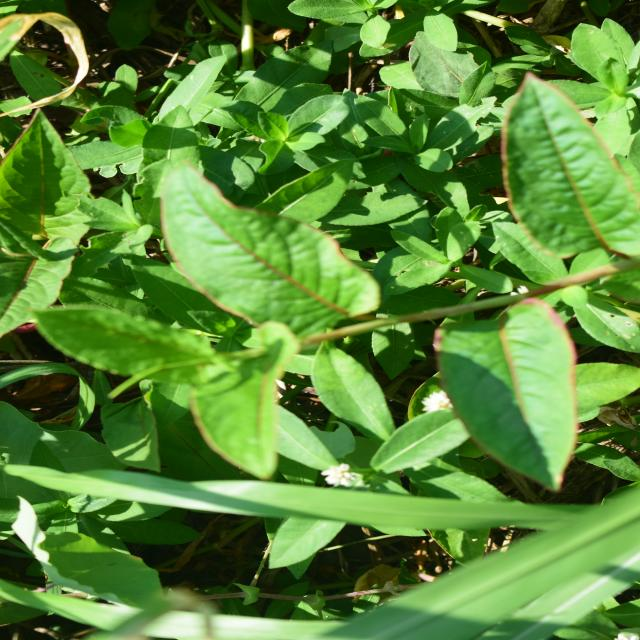Chinese_knotweed: (186, 71, 460, 379)
